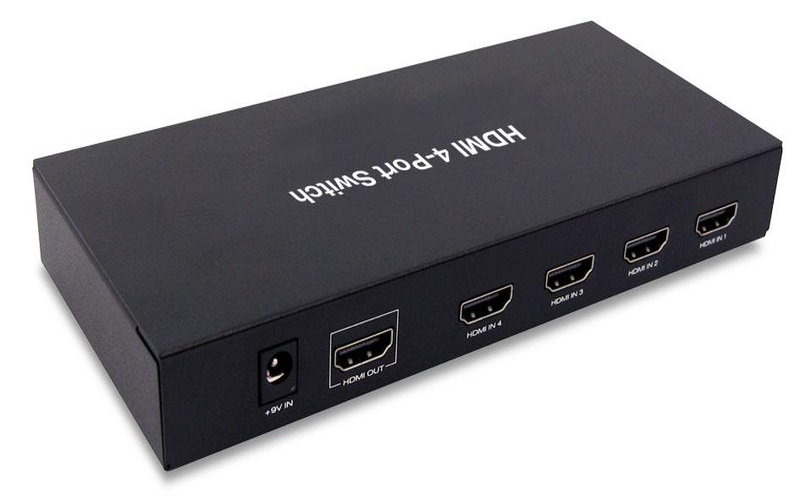Switches: (33, 13, 789, 451)
